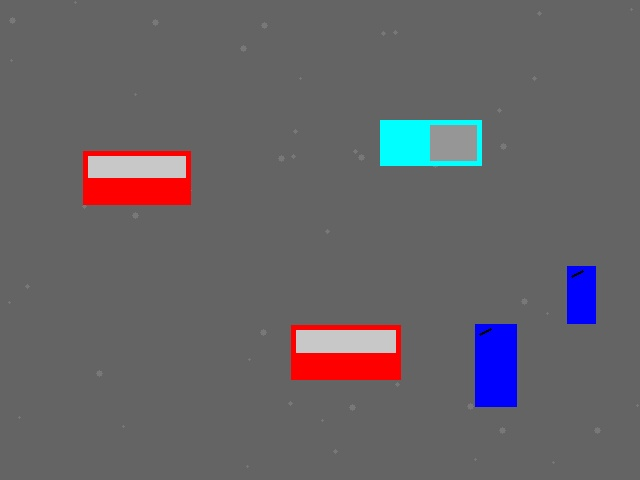car: (291, 325, 400, 379), (83, 151, 190, 204)
motorcycle: (475, 324, 516, 406), (567, 266, 595, 323)
truck: (380, 120, 481, 165)
